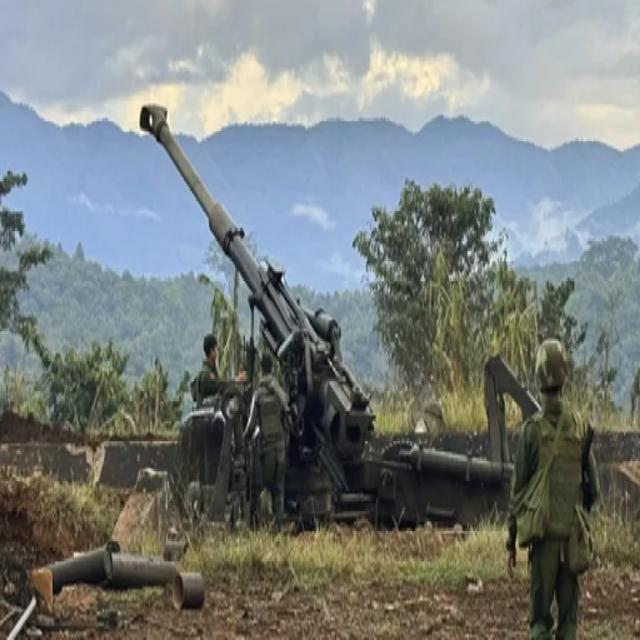ART: (137, 87, 542, 531)
